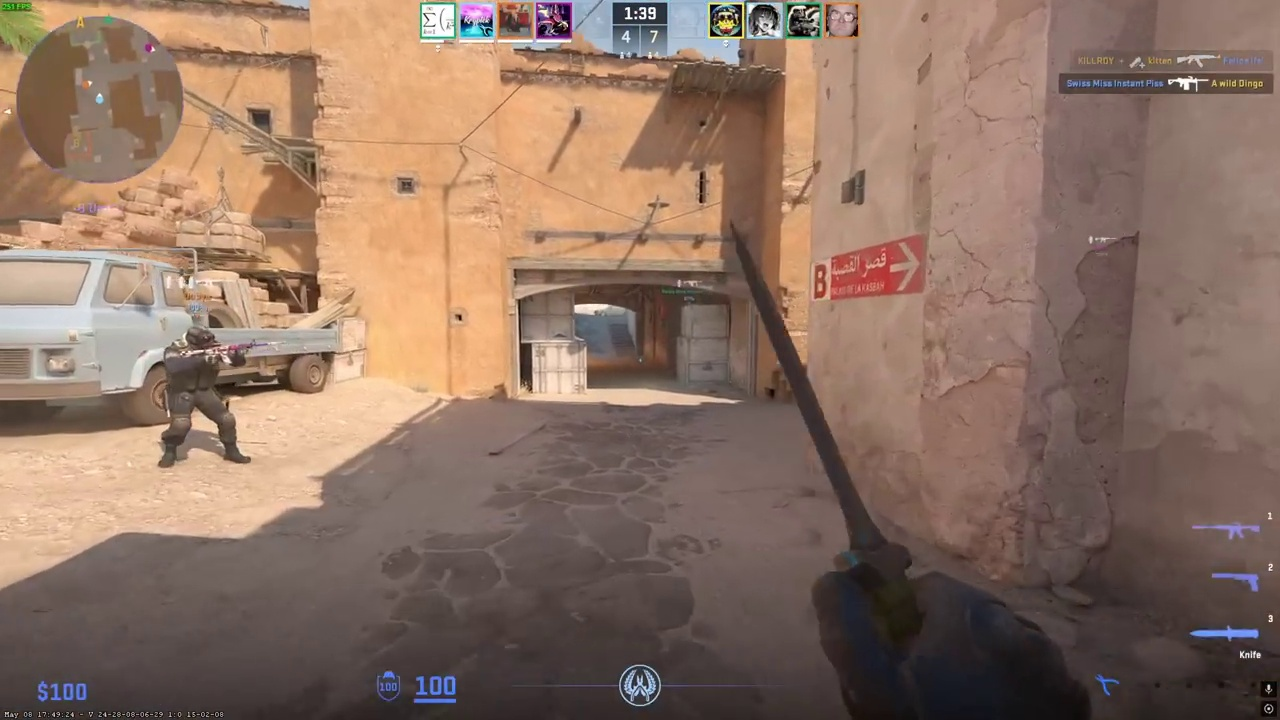CT: (158, 326, 247, 468)
